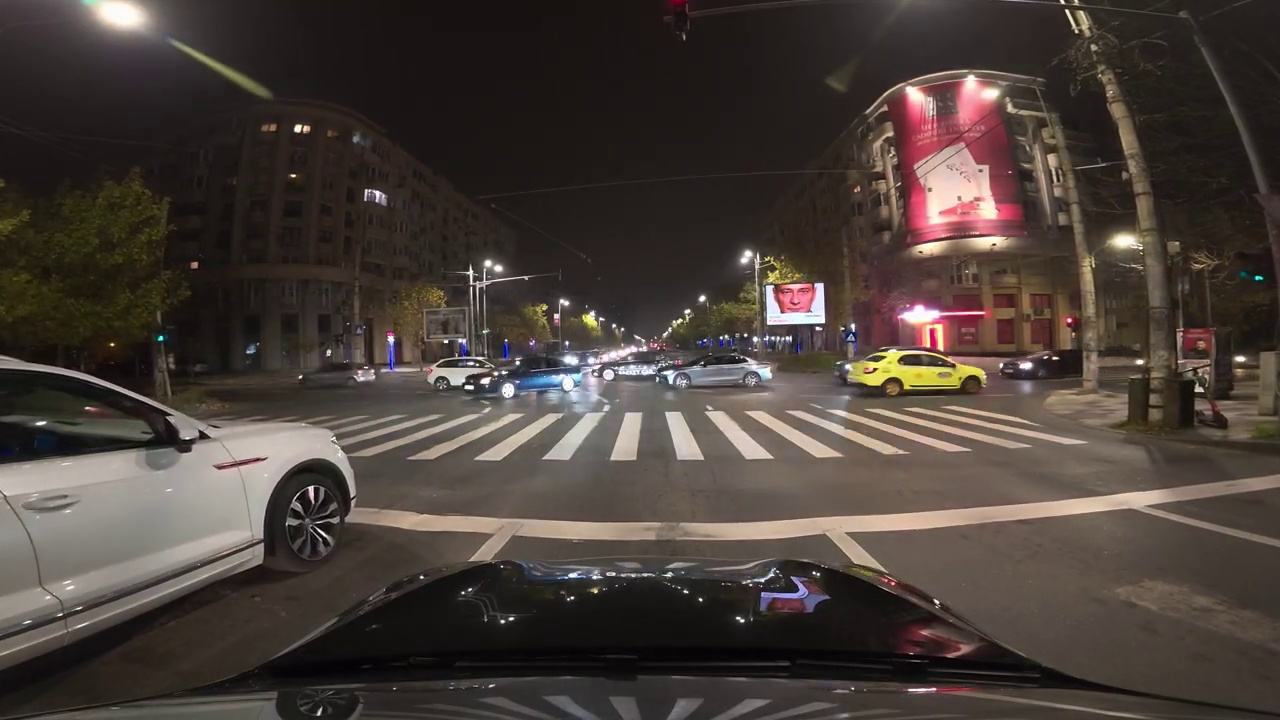acesa: (88, 0, 149, 36), (1107, 230, 1139, 254), (737, 248, 755, 269)
